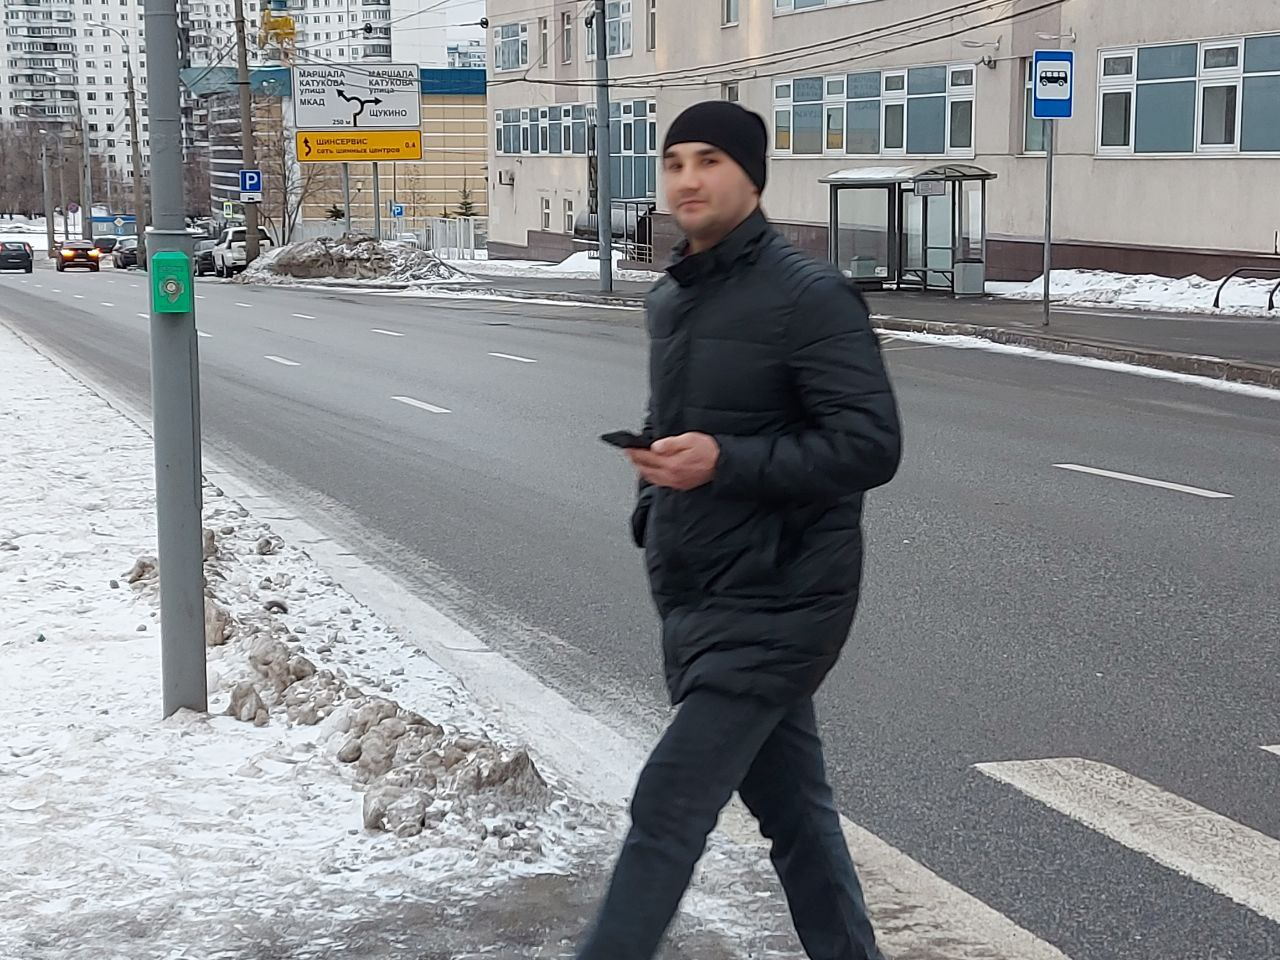sombie: (563, 84, 921, 960)
